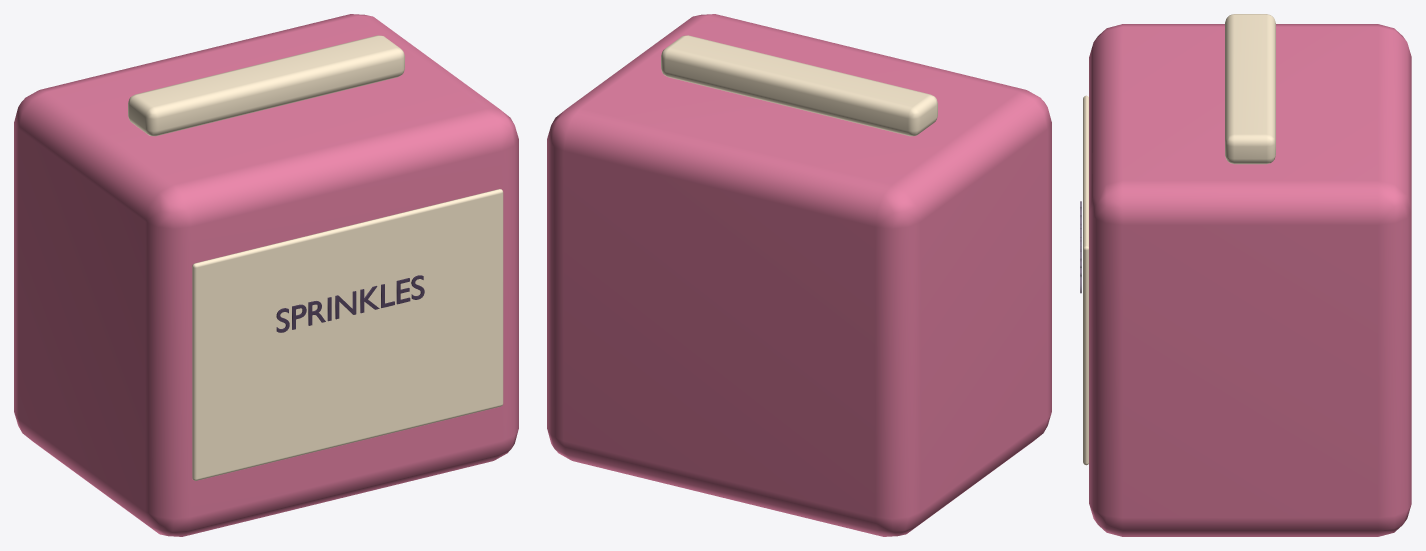
File: Sprinkles_refill.fbx
3 renders of one model, left to right at view 1: azimuth 30°, elevation 25°; view 2: azimuth 150°, elevation 25°; view 3: azimuth 270°, elevation 25°, orthographic.
Visible parts, largest first — view 1: Toon_Sprinkles_refill Rounded refill package.001, Toon_Sprinkles_refill Cream paper label.001, Toon_Sprinkles_refill Folded seal.001, Package contents.008; view 2: Toon_Sprinkles_refill Rounded refill package.001, Toon_Sprinkles_refill Folded seal.001; view 3: Toon_Sprinkles_refill Rounded refill package.001, Toon_Sprinkles_refill Folded seal.001, Toon_Sprinkles_refill Cream paper label.001.
Boxes of the visible parts, left/top/right/bottom form: Toon_Sprinkles_refill Rounded refill package.001: left=14, top=14, right=518, bottom=536; Toon_Sprinkles_refill Cream paper label.001: left=192, top=189, right=503, bottom=480; Toon_Sprinkles_refill Folded seal.001: left=128, top=35, right=404, bottom=136; Package contents.008: left=276, top=275, right=424, bottom=332; Toon_Sprinkles_refill Rounded refill package.001: left=547, top=14, right=1051, bottom=536; Toon_Sprinkles_refill Folded seal.001: left=661, top=35, right=937, bottom=136; Toon_Sprinkles_refill Rounded refill package.001: left=1089, top=24, right=1411, bottom=536; Toon_Sprinkles_refill Folded seal.001: left=1225, top=14, right=1275, bottom=164; Toon_Sprinkles_refill Cream paper label.001: left=1083, top=95, right=1088, bottom=465.
Bounding box in the file's own units: 32 × 31.4 × 24.66.
